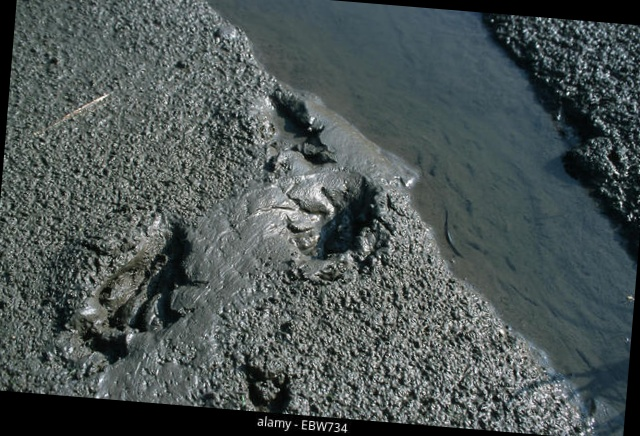beaver: (70, 216, 226, 354)
